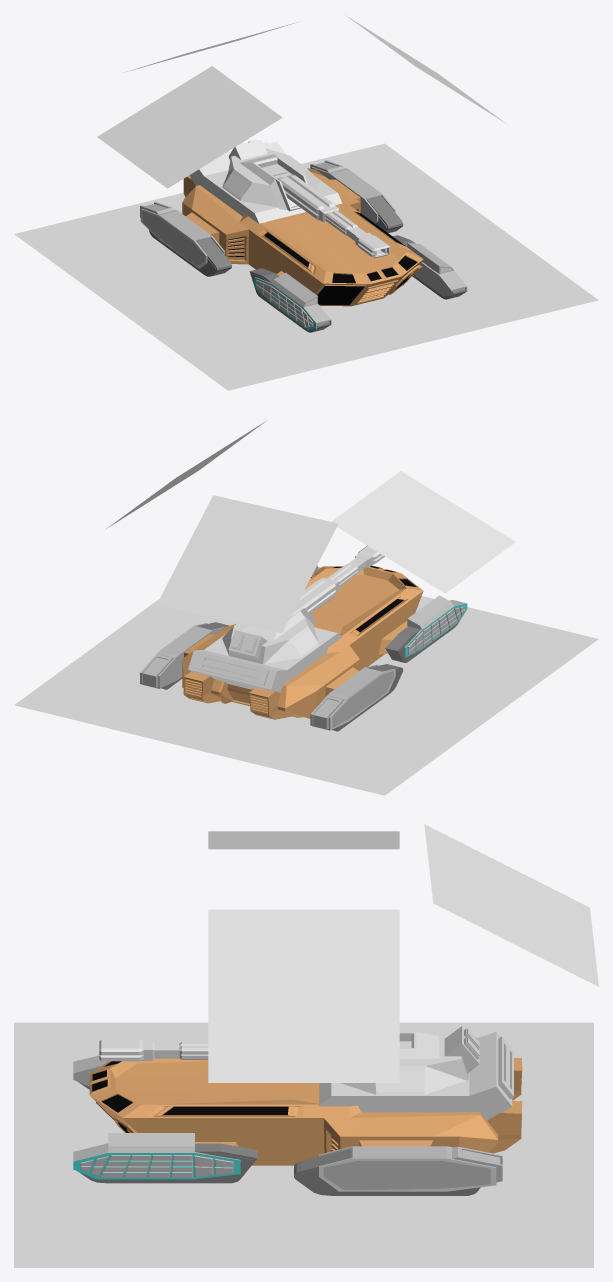
The model's file is HoverTankFBX.fbx.
3 views of the same model, one above another, from view 1: azimuth 30°, elevation 25°; view 2: azimuth 150°, elevation 25°; view 3: azimuth 270°, elevation 25° (orthographic). The views are drawn at different scales.
Parts seen in each view (by area): view 1: Plane, Cube, Plane.001, Cubre Orugas, Torreta, Cubre Orugas 2, Centro, Orugas, Cañon.001, Orugas 2, Plane.002, Cañon; view 2: Plane, Plane.003, Cube, Plane.001, Cubre Orugas, Centro, Torreta, Cubre Orugas 2, Orugas 2, Cañon.001, Plane.002, Orugas (+1 smaller); view 3: Plane, Plane.002, Cube, Plane.003, Cubre Orugas, Cubre Orugas 2, Centro, Torreta, Plane.001, Orugas, Orugas 2, Cañon.003 (+1 smaller).
Boxes of the visible parts, left/top/right/bottom form: Plane: left=14, top=143, right=598, bottom=390; Cube: left=182, top=168, right=423, bottom=306; Plane.001: left=97, top=66, right=282, bottom=188; Cubre Orugas: left=140, top=160, right=395, bottom=268; Torreta: left=222, top=139, right=319, bottom=211; Cubre Orugas 2: left=254, top=243, right=467, bottom=329; Centro: left=189, top=141, right=342, bottom=223; Orugas: left=149, top=196, right=403, bottom=276; Cañon.001: left=276, top=174, right=335, bottom=220; Orugas 2: left=249, top=235, right=465, bottom=332; Plane.002: left=347, top=16, right=507, bottom=124; Cañon: left=273, top=172, right=386, bottom=256; Plane: left=14, top=596, right=598, bottom=795; Plane.003: left=156, top=495, right=338, bottom=633; Cube: left=182, top=565, right=423, bottom=719; Plane.001: left=331, top=471, right=515, bottom=593; Cubre Orugas: left=140, top=623, right=395, bottom=730; Centro: left=188, top=627, right=342, bottom=692; Torreta: left=222, top=607, right=319, bottom=664; Cubre Orugas 2: left=313, top=565, right=467, bottom=657; Orugas 2: left=385, top=621, right=459, bottom=662; Cañon.001: left=291, top=580, right=335, bottom=615; Plane.002: left=105, top=421, right=265, bottom=529; Orugas: left=161, top=622, right=403, bottom=731; Plane: left=14, top=1022, right=593, bottom=1267; Plane.002: left=208, top=909, right=399, bottom=1082; Cube: left=89, top=1058, right=522, bottom=1165; Plane.003: left=424, top=824, right=598, bottom=986; Cubre Orugas: left=319, top=1037, right=502, bottom=1191; Cubre Orugas 2: left=73, top=1055, right=240, bottom=1179; Centro: left=318, top=1032, right=513, bottom=1120; Torreta: left=340, top=1026, right=479, bottom=1094; Plane.001: left=208, top=831, right=399, bottom=849; Orugas: left=294, top=1149, right=480, bottom=1195; Orugas 2: left=78, top=1082, right=257, bottom=1183; Cañon.003: left=99, top=1039, right=143, bottom=1061.
Size of the model in its own units: 2210 by 1192 by 2229.
